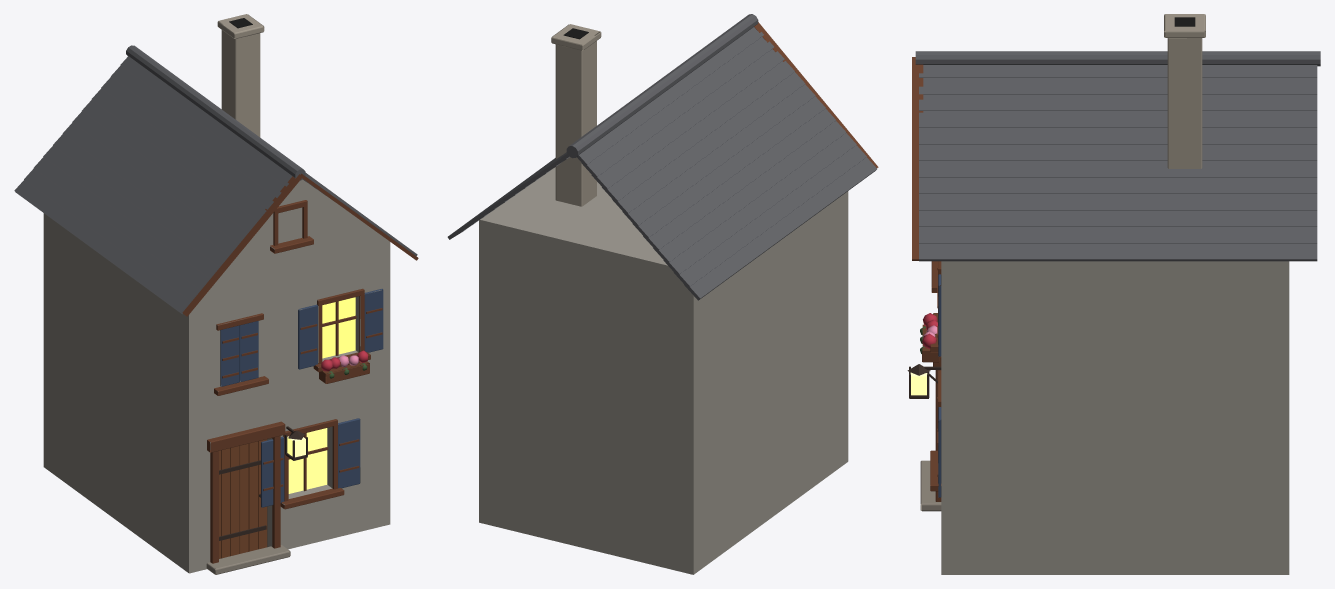
Rendered from casa_4x5_ligero.glb.
3 renders of one model, left to right at view 1: azimuth 30°, elevation 25°; view 2: azimuth 150°, elevation 25°; view 3: azimuth 270°, elevation 25°, orthographic. The views are drawn at different scales.
Visible parts, largest first — view 1: casa_4x5_pb_dentro, casa_4x5_pa_dentro, casa_4x5_pb.005, casa_4x5_pa.003, casa_4x5_hastial, casa_4x5_pb, casa_4x5_pa, casa_4x5_chimenea0, casa_4x5_tejado_-1_0, casa_4x5_tejado_-1_1, casa_4x5_tejado_-1_2, casa_4x5_tejado_-1_3 (+39 smaller); view 2: casa_4x5_pb_dentro, casa_4x5_pa_dentro, casa_4x5_chimenea0, casa_4x5_tejado_-1_0, casa_4x5_tejado_-1_2, casa_4x5_tejado_-1_5, casa_4x5_tejado_-1_6, casa_4x5_tejado_-1_3, casa_4x5_tejado_-1_7, casa_4x5_tejado_-1_8, casa_4x5_tejado_-1_1, casa_4x5_tejado_-1_4 (+8 smaller); view 3: casa_4x5_pb_dentro, casa_4x5_pa_dentro, casa_4x5_tejado_1_0, casa_4x5_tejado_1_1, casa_4x5_tejado_1_3, casa_4x5_tejado_1_5, casa_4x5_tejado_1_2, casa_4x5_tejado_1_4, casa_4x5_tejado_1_7, casa_4x5_tejado_1_6, casa_4x5_tejado_1_8, casa_4x5_tejado_1_9 (+9 smaller).
Part boxes in pixels (x1=…): casa_4x5_pb_dentro: x1=43, y1=314, x2=180, y2=566; casa_4x5_pa_dentro: x1=43, y1=213, x2=181, y2=415; casa_4x5_pb.005: x1=327, y1=372, x2=390, y2=538; casa_4x5_pa.003: x1=258, y1=257, x2=320, y2=403; casa_4x5_hastial: x1=216, y1=179, x2=387, y2=282; casa_4x5_pb: x1=180, y1=414, x2=216, y2=573; casa_4x5_pa: x1=182, y1=281, x2=220, y2=420; casa_4x5_chimenea0: x1=221, y1=28, x2=260, y2=137; casa_4x5_tejado_-1_0: x1=14, y1=180, x2=193, y2=314; casa_4x5_tejado_-1_1: x1=24, y1=168, x2=203, y2=301; casa_4x5_tejado_-1_2: x1=34, y1=157, x2=213, y2=289; casa_4x5_tejado_-1_3: x1=43, y1=145, x2=222, y2=278; casa_4x5_pb_dentro: x1=479, y1=306, x2=838, y2=574; casa_4x5_pa_dentro: x1=479, y1=167, x2=840, y2=411; casa_4x5_chimenea0: x1=555, y1=37, x2=596, y2=206; casa_4x5_tejado_-1_0: x1=684, y1=157, x2=876, y2=300; casa_4x5_tejado_-1_2: x1=663, y1=133, x2=856, y2=275; casa_4x5_tejado_-1_5: x1=632, y1=96, x2=825, y2=238; casa_4x5_tejado_-1_6: x1=622, y1=84, x2=815, y2=227; casa_4x5_tejado_-1_3: x1=653, y1=121, x2=846, y2=263; casa_4x5_tejado_-1_7: x1=612, y1=72, x2=805, y2=214; casa_4x5_tejado_-1_8: x1=602, y1=61, x2=794, y2=202; casa_4x5_tejado_-1_1: x1=673, y1=145, x2=866, y2=287; casa_4x5_tejado_-1_4: x1=643, y1=108, x2=835, y2=251; casa_4x5_pb_dentro: x1=962, y1=392, x2=1289, y2=574; casa_4x5_pa_dentro: x1=958, y1=261, x2=1289, y2=391; casa_4x5_tejado_1_0: x1=919, y1=243, x2=1317, y2=261; casa_4x5_tejado_1_1: x1=919, y1=226, x2=1317, y2=243; casa_4x5_tejado_1_3: x1=919, y1=193, x2=1317, y2=210; casa_4x5_tejado_1_5: x1=919, y1=160, x2=1317, y2=177; casa_4x5_tejado_1_2: x1=919, y1=210, x2=1317, y2=226; casa_4x5_tejado_1_4: x1=919, y1=177, x2=1317, y2=193; casa_4x5_tejado_1_7: x1=919, y1=127, x2=1317, y2=144; casa_4x5_tejado_1_6: x1=919, y1=144, x2=1317, y2=160; casa_4x5_tejado_1_8: x1=919, y1=111, x2=1317, y2=127; casa_4x5_tejado_1_9: x1=919, y1=94, x2=1317, y2=110.
Size of the model in its own units: 4.72 by 8.33 by 5.94.
